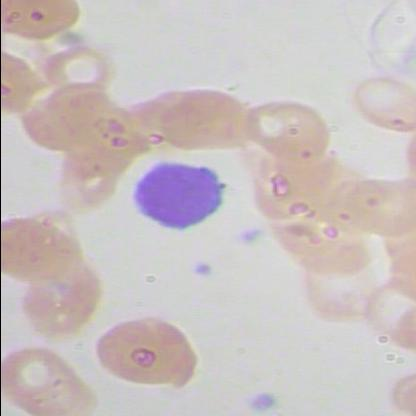Platelets: (190, 258, 216, 280), (234, 223, 260, 245), (248, 394, 278, 412)
RBC: (89, 310, 204, 399), (238, 154, 336, 224), (284, 252, 376, 326), (266, 192, 363, 262), (244, 91, 334, 165), (19, 267, 102, 346), (1, 206, 81, 287), (156, 84, 246, 154), (64, 103, 146, 169), (43, 154, 124, 220), (0, 342, 78, 408), (17, 355, 102, 415), (339, 76, 415, 138), (339, 176, 415, 238), (39, 40, 119, 96), (1, 0, 84, 46), (1, 48, 38, 123)
WBC: (129, 160, 231, 232)
